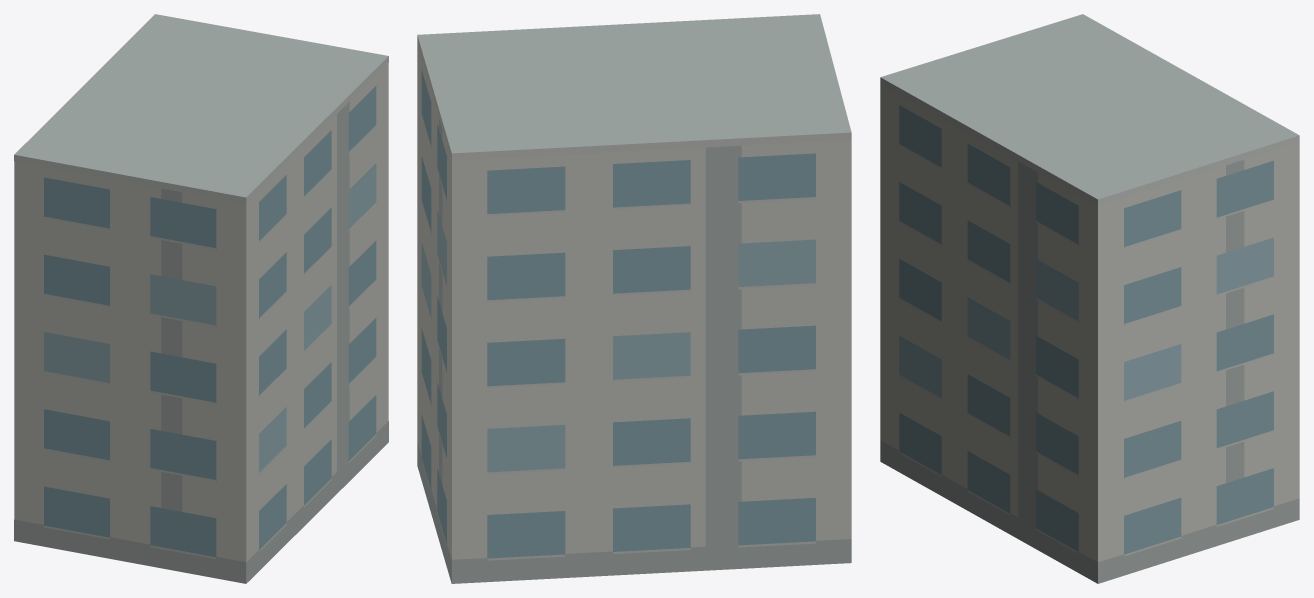
The model's file is survey-upis-32526849.glb.
3 views of the same model, side by side, from view 1: azimuth 30°, elevation 25°; view 2: azimuth 150°, elevation 25°; view 3: azimuth 270°, elevation 25° (orthographic). The views are drawn at different scales.
Parts seen in each view (by area): view 1: survey-upis-32526849.tmp; view 2: survey-upis-32526849.tmp; view 3: survey-upis-32526849.tmp.
Boxes of the visible parts, x1,y1,x2,y2 form: survey-upis-32526849.tmp: [14, 14, 388, 583]; survey-upis-32526849.tmp: [417, 14, 851, 583]; survey-upis-32526849.tmp: [880, 14, 1299, 583].
Size of the model in its own units: 14.6 by 14.1 by 13.95.
